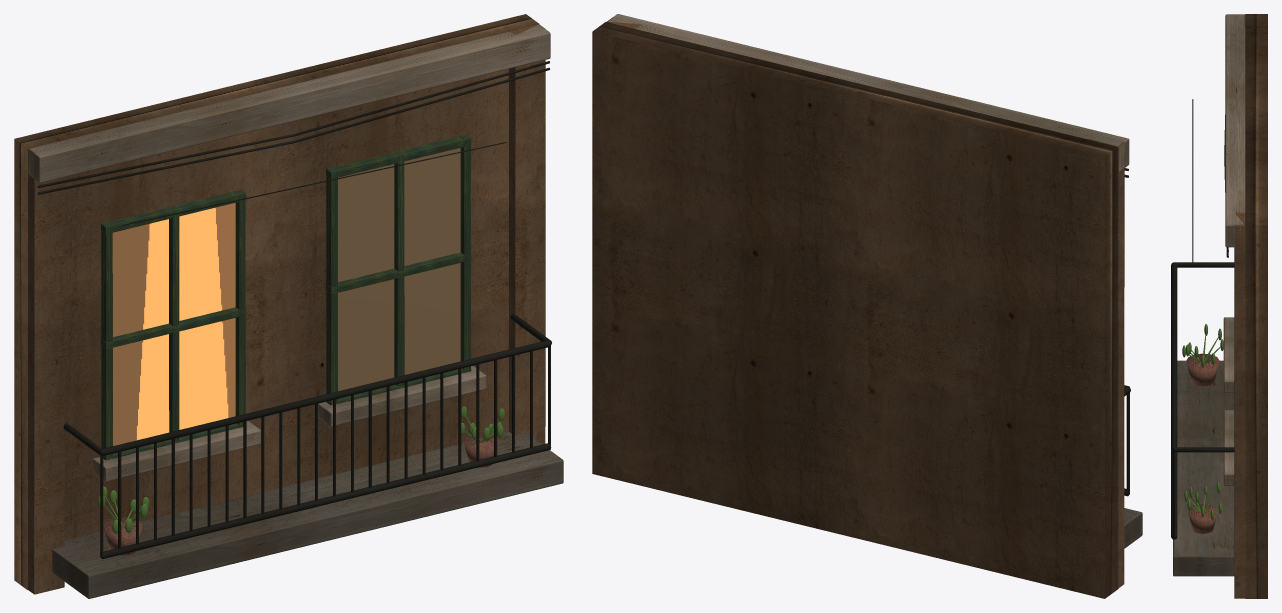
File: mat_tien_tang_03.glb
3 renders of one model, left to right at view 1: azimuth 30°, elevation 25°; view 2: azimuth 150°, elevation 25°; view 3: azimuth 270°, elevation 25°, orthographic. The views are drawn at different scales.
Parts seen in each view (by area): view 1: mat_tien_tang_03.001; view 2: mat_tien_tang_03.001; view 3: mat_tien_tang_03.001.
Part boxes in pixels (x1,y1,x2,y2): mat_tien_tang_03.001: (14,14,563,598); mat_tien_tang_03.001: (592,14,1142,598); mat_tien_tang_03.001: (1171,14,1267,598).
Size of the model in its own units: 4 by 3.3 by 0.775.
3 materials, 2 textured.
